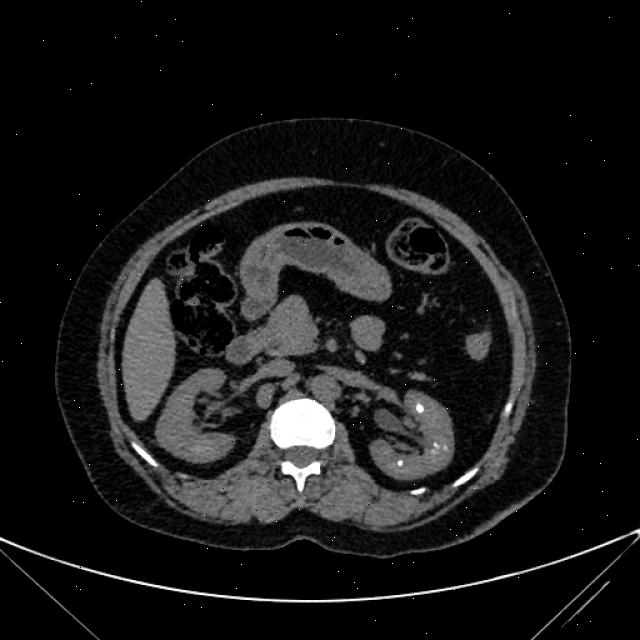kidneystone: (430, 441, 450, 454), (415, 402, 424, 413), (396, 459, 401, 467)
